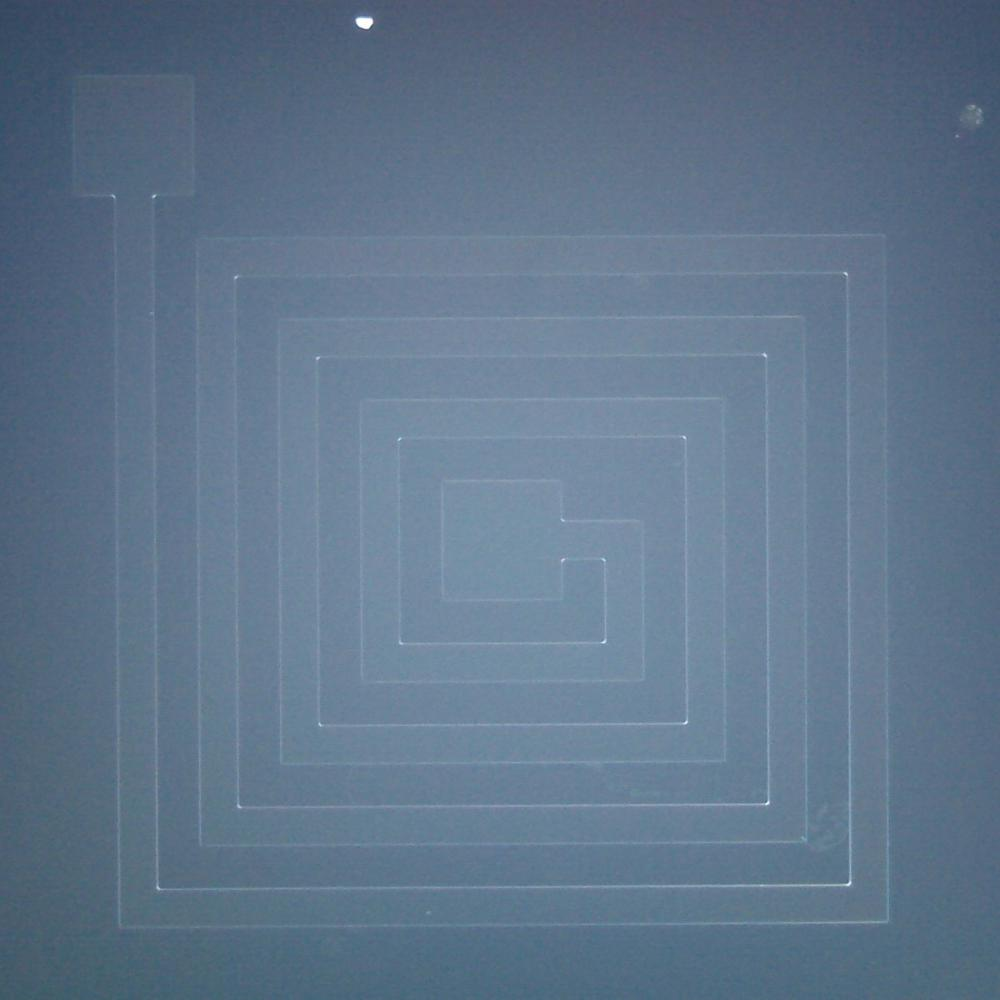Bdot: (355, 14, 373, 32)
